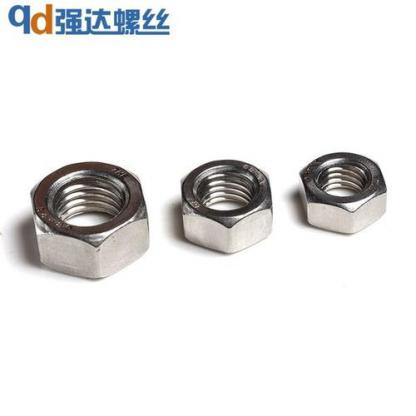FOD: (22, 158, 153, 280), (180, 155, 273, 259), (296, 152, 390, 237)
